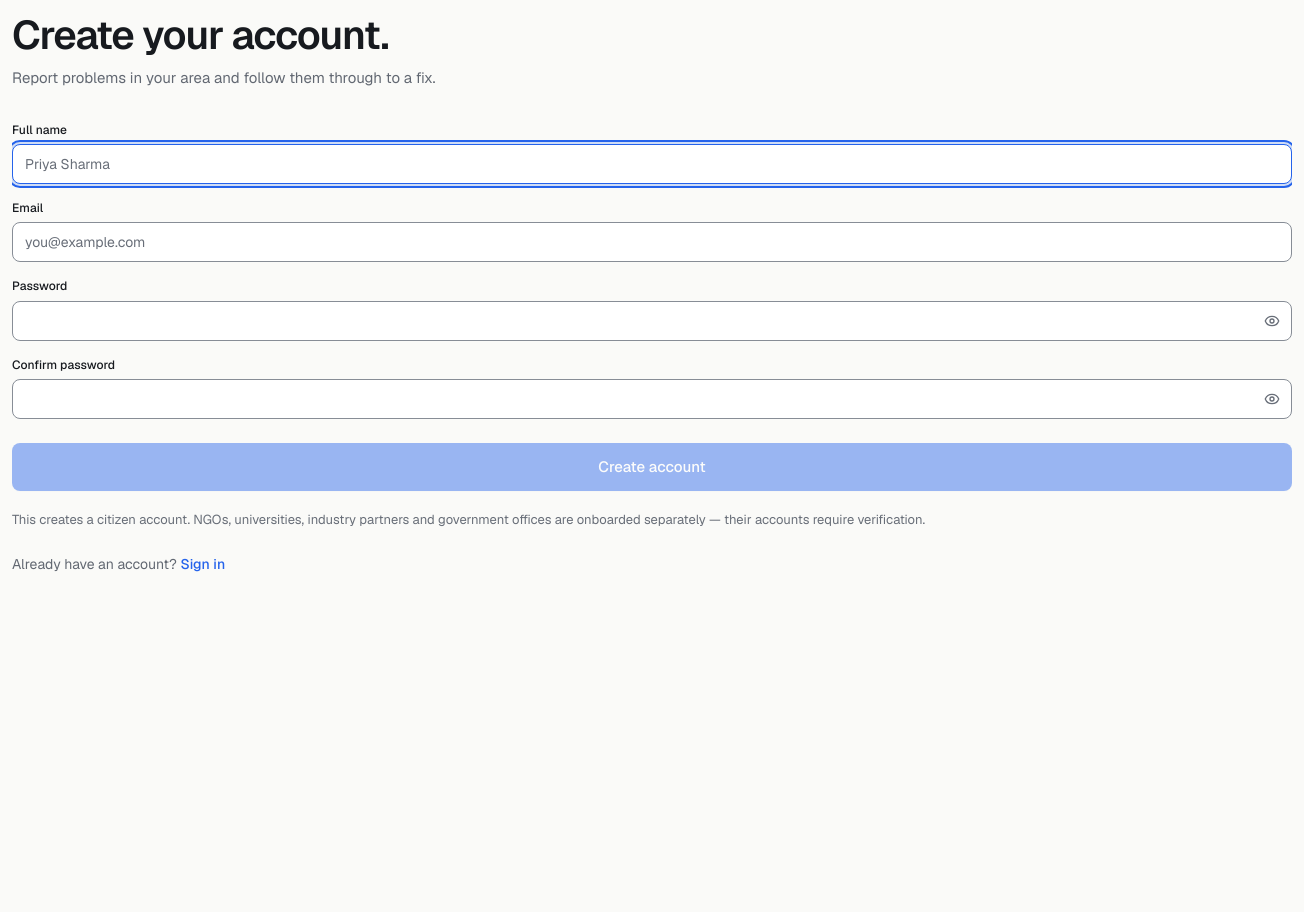
Scenario: RegisterForm › shows the password requirements as they are met
Type "Monsoon-Drain-2026" into the password field labelled "Password".
click(652, 321); type("Monsoon-Drain-2026")  # box [12,301,1292,341]
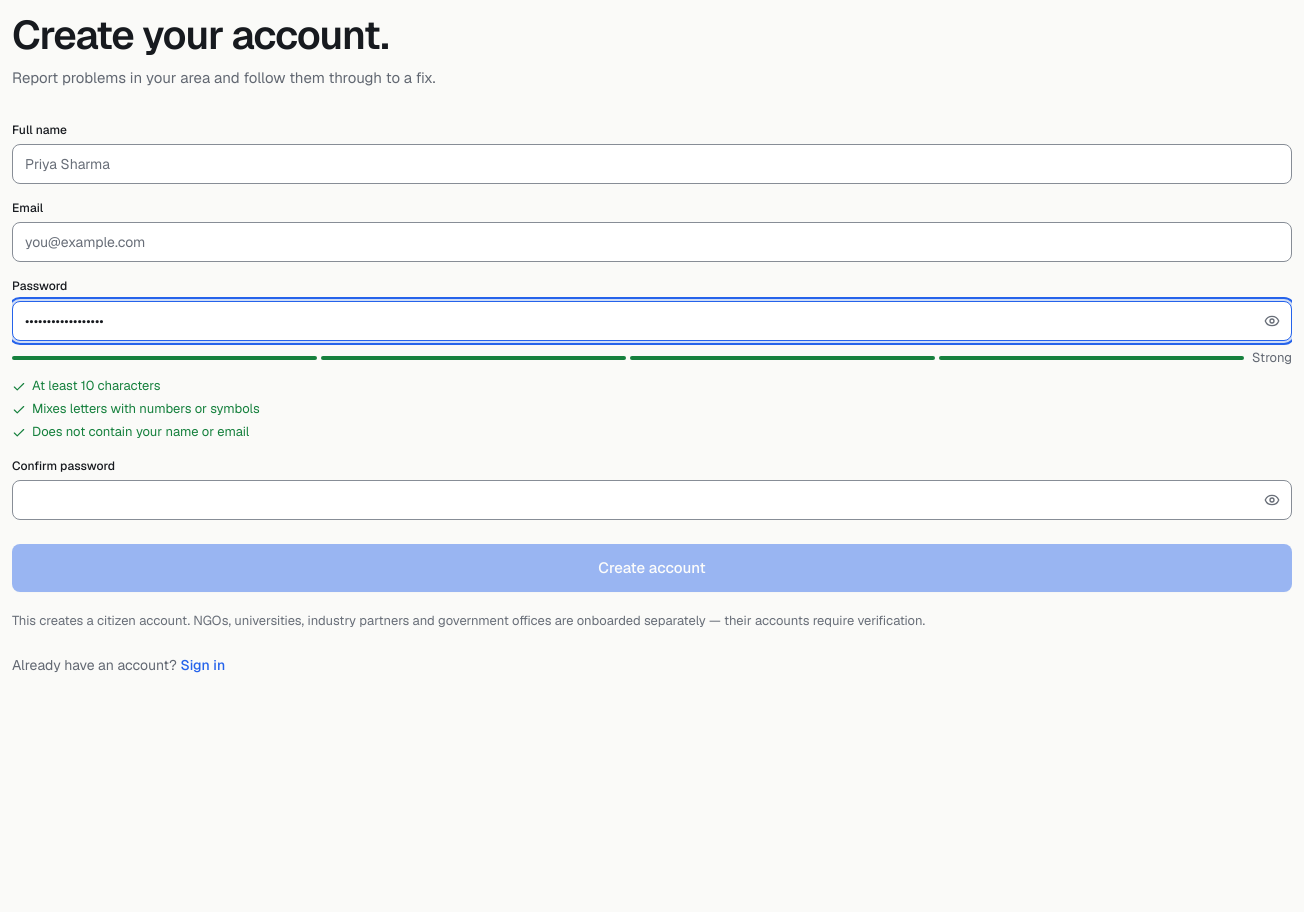
Expected: the text "At least 10 characters" is shown, [32,377,160,396]
Expected: the text "Strong" is shown, [1252,349,1292,367]
